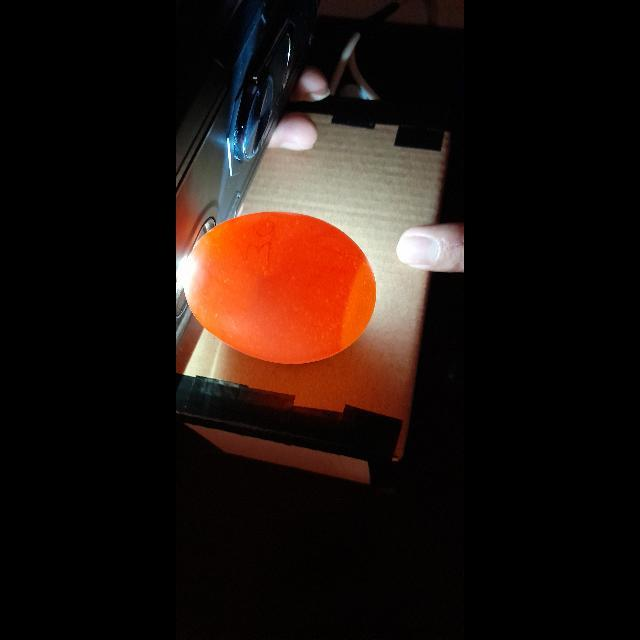Fertile: (186, 211, 376, 369)
